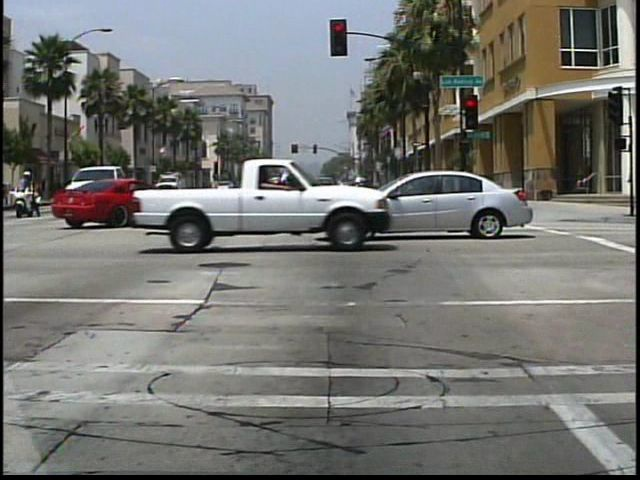person: (9, 170, 46, 220)
